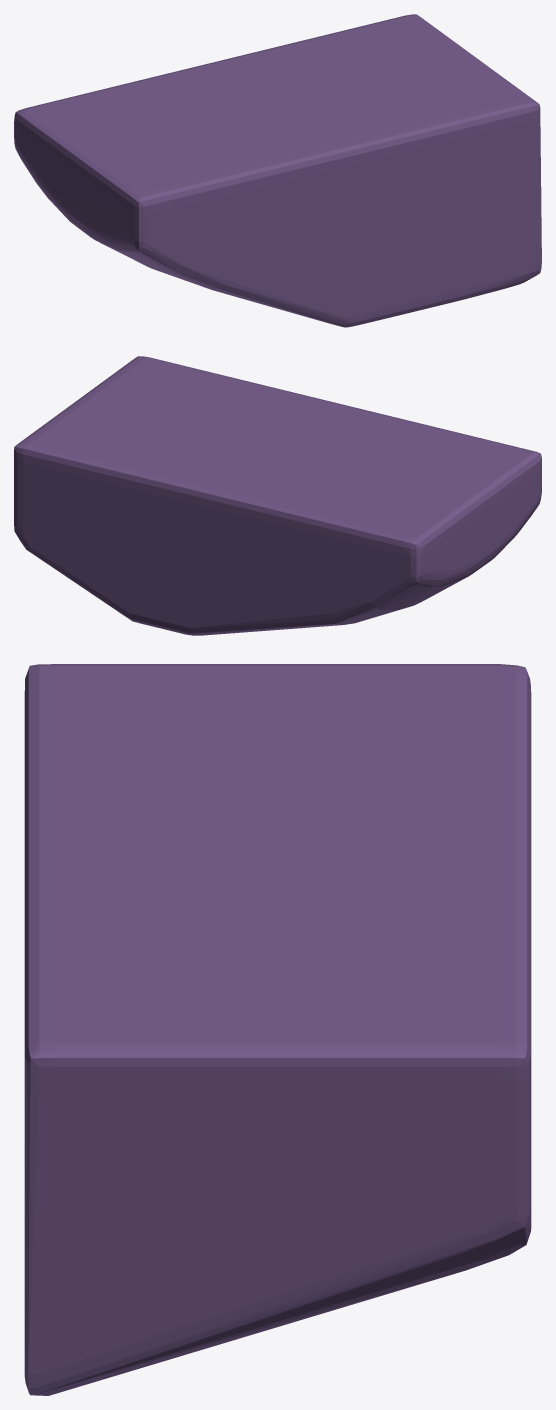
Rendered from left_hip_yaw_link_part_1.obj.
The picture shows the model from 3 angles, top to bottom: view 1: azimuth 30°, elevation 25°; view 2: azimuth 150°, elevation 25°; view 3: azimuth 270°, elevation 25°; orthographic projection. The views are drawn at different scales.
Bounding box in the file's own units: 0.0754 × 0.0332 × 0.0408.
